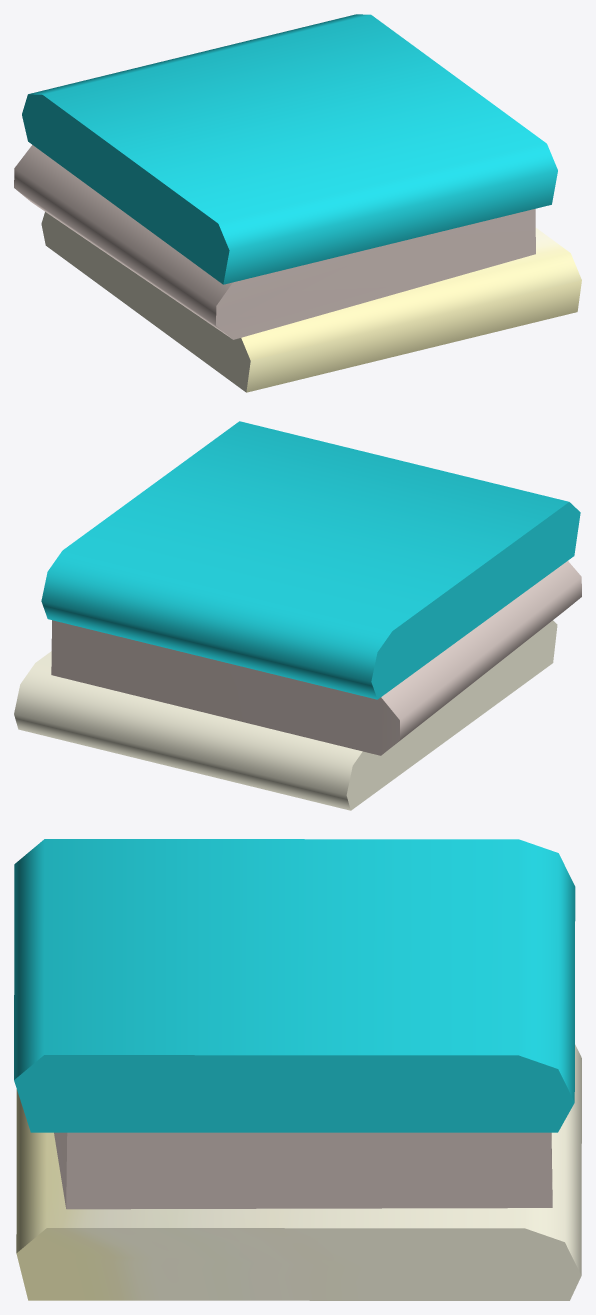
File: shop_044.glb
The picture shows the model from 3 angles, top to bottom: view 1: azimuth 30°, elevation 25°; view 2: azimuth 150°, elevation 25°; view 3: azimuth 270°, elevation 25°; orthographic projection. The views are drawn at different scales.
Parts seen in each view (by area): view 1: shop_044; view 2: shop_044; view 3: shop_044.
Part boxes in pixels (box(x1,y1,x2,y2)): shop_044: box(14, 14, 581, 392); shop_044: box(14, 421, 581, 810); shop_044: box(14, 839, 581, 1300).
Bounding box in the file's own units: 0.4102 × 0.1796 × 0.4031.
1 material, 1 textured.
